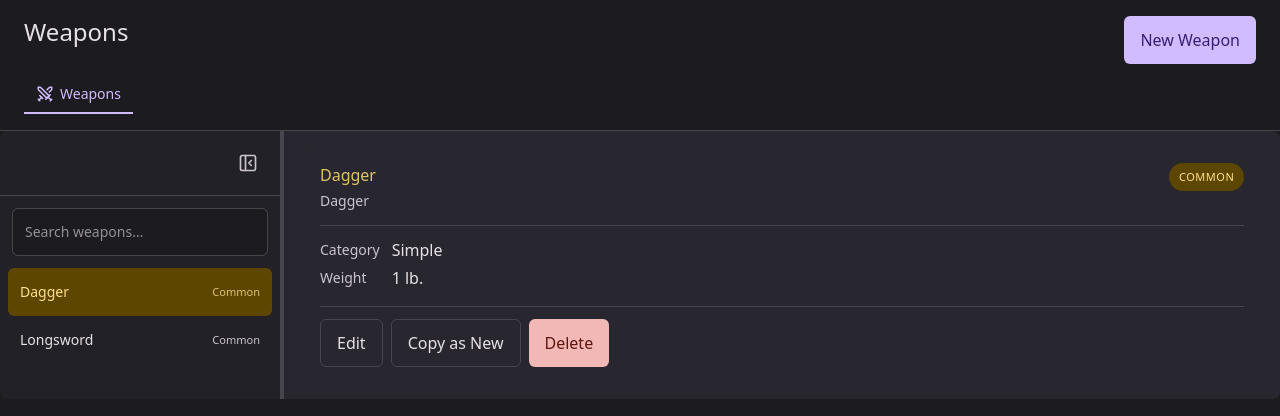
VW0 standard browsers › WeaponBrowser: lists weapons sorted, first selected, detail updates on click
This screenshot has width=1280, height=416.
Check: the heading "Dagger" is shown, box [320,163,376,187]
Step 1. Click the text "Longsword" → (57, 340), box [20,330,93,350]
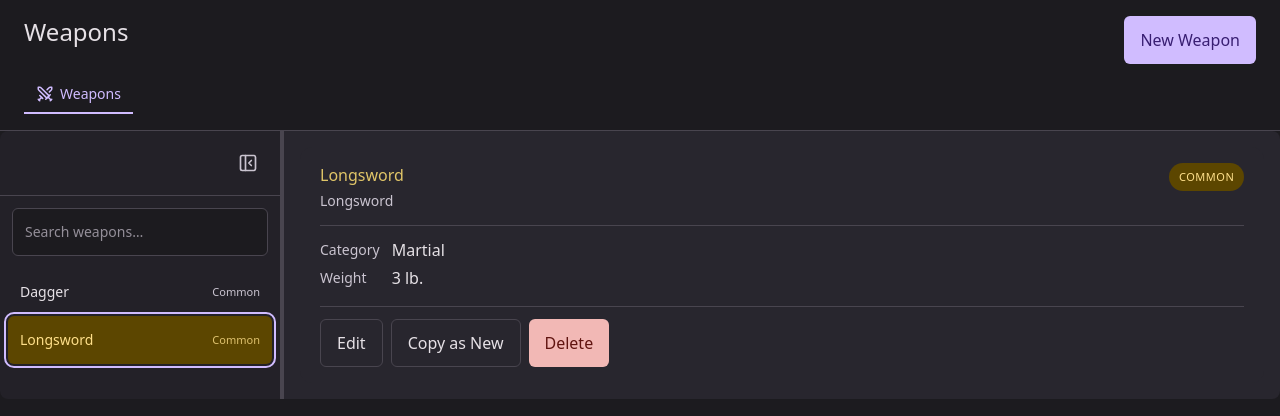
Check: the heading "Longsword" is shown, box [320,163,404,187]
